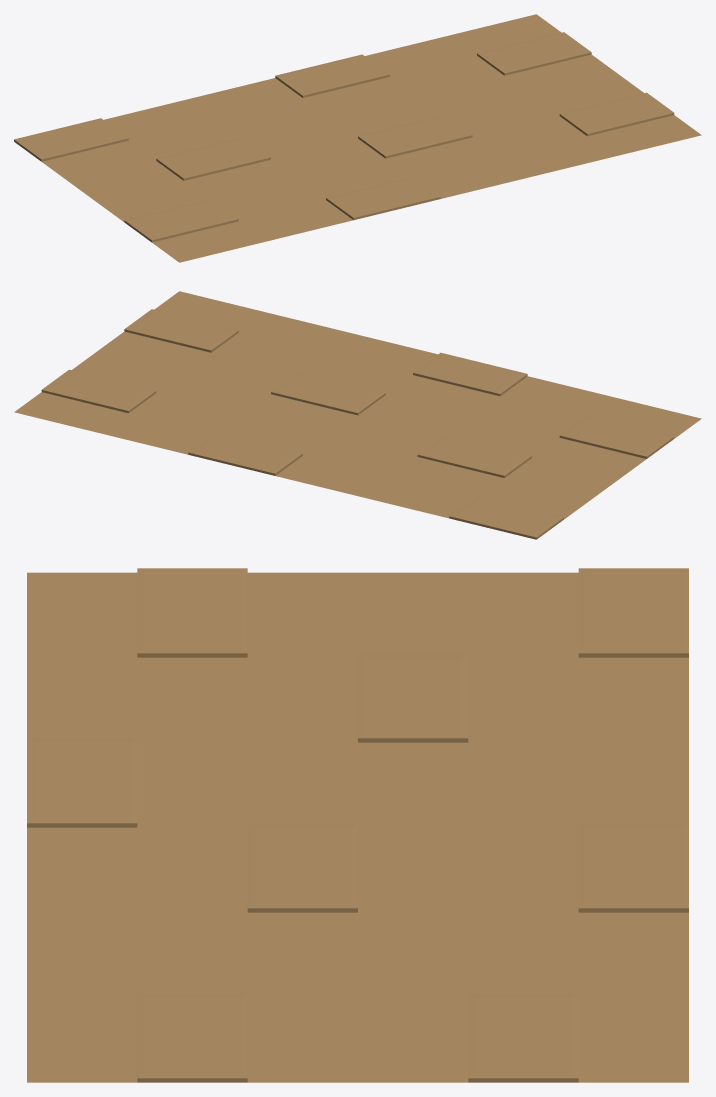
Rendered from temple-lane-road.fbx.
3 views of the same model, one above another, from view 1: azimuth 30°, elevation 25°; view 2: azimuth 150°, elevation 25°; view 3: azimuth 270°, elevation 25° (orthographic). The views are drawn at different scales.
Parts seen in each view (by area): view 1: Plane; view 2: Plane; view 3: Plane.
Boxes of the visible parts, x1,y1,x2,y2 form: Plane: (14,14,701,262); Plane: (14,291,701,539); Plane: (27,568,688,1082).
Size of the model in its own units: 35.45 by 0.1524 by 19.44.
